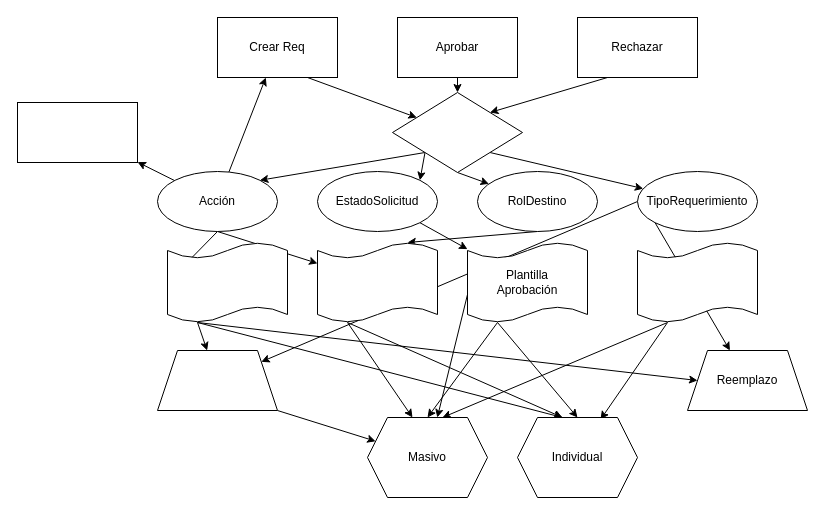
This 825x515 diagram has some shape labels left out. The centre of each missing label's shape, as x and y in pixels:
Crear Aprobar Rechazar: point 77,132
EnviarCorreo: point 457,132
Planificado / No planificado: point 217,380
Plantilla Pendiente Aprobación: point 377,282
Plantilla Rechazo: point 697,282
PlantillaCreación: point 227,282
